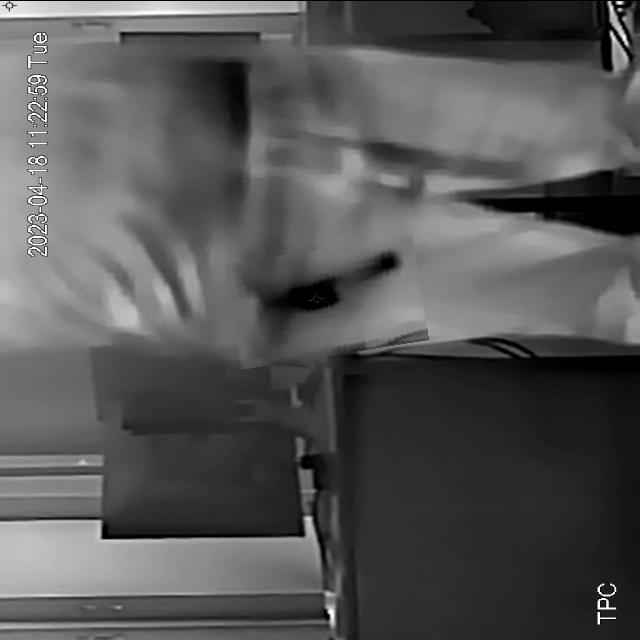Weapon: (228, 241, 426, 362)
